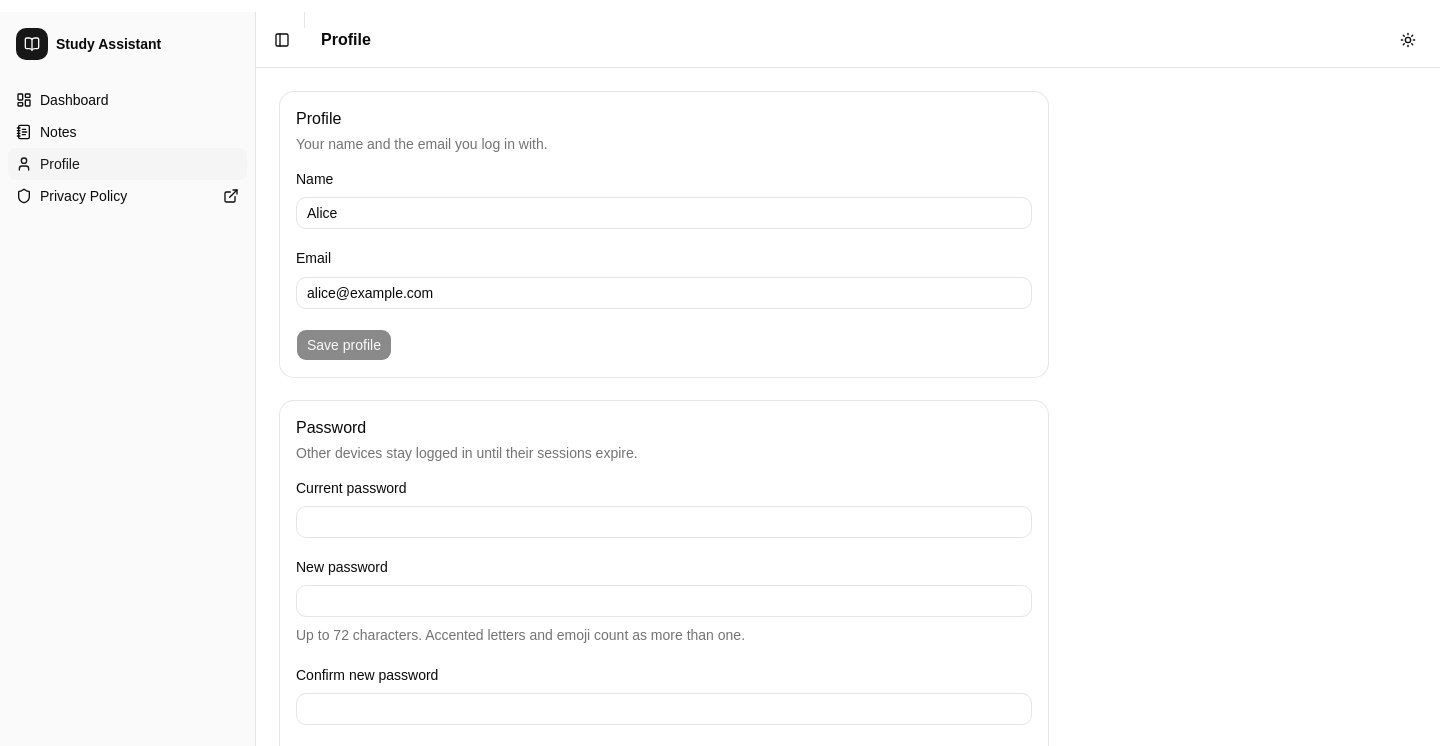
Test: profile page › shows a conflict when the email is taken
Replace the text in the field labelled "Email" with "bob@example.com": {"x": 664, "y": 292} [296,276,1032,308]
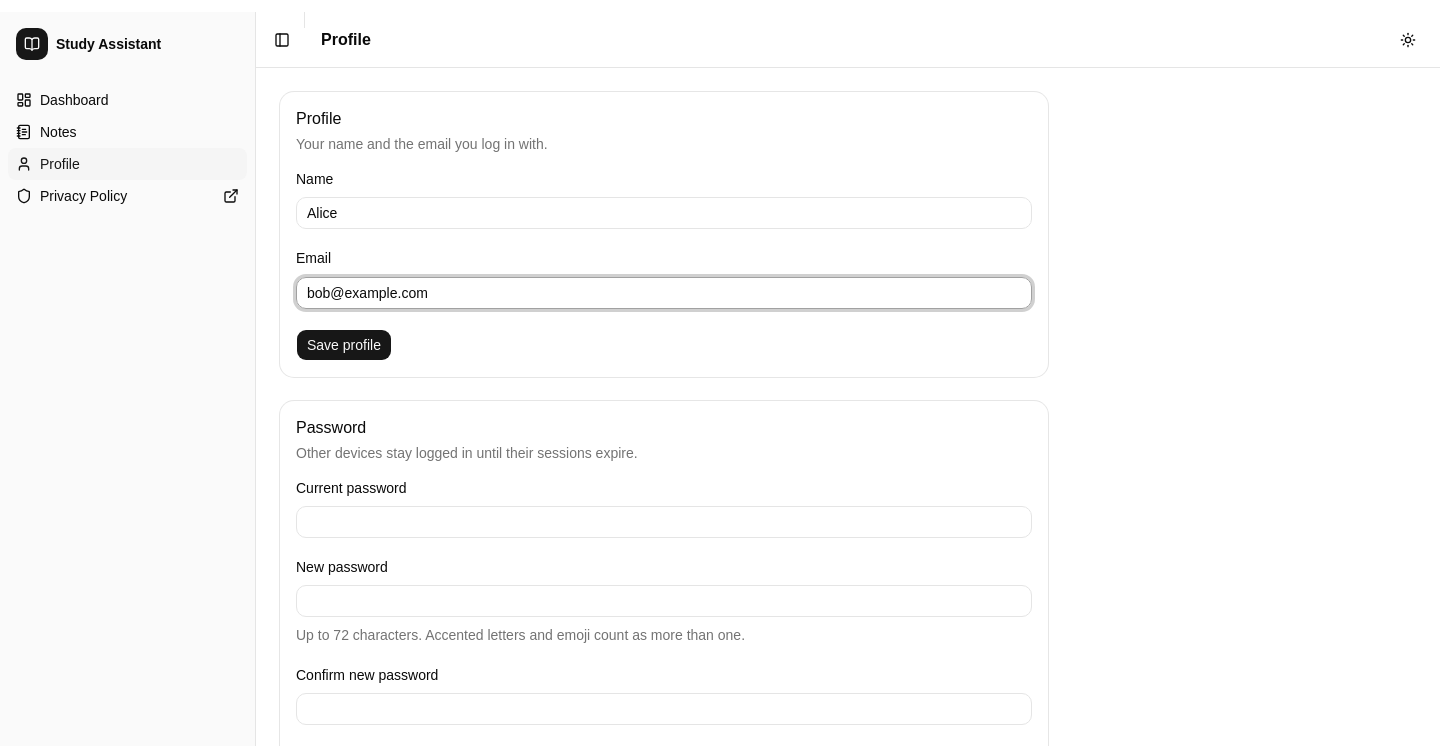
Click the button "Save profile": {"x": 344, "y": 344} [296,328,392,360]
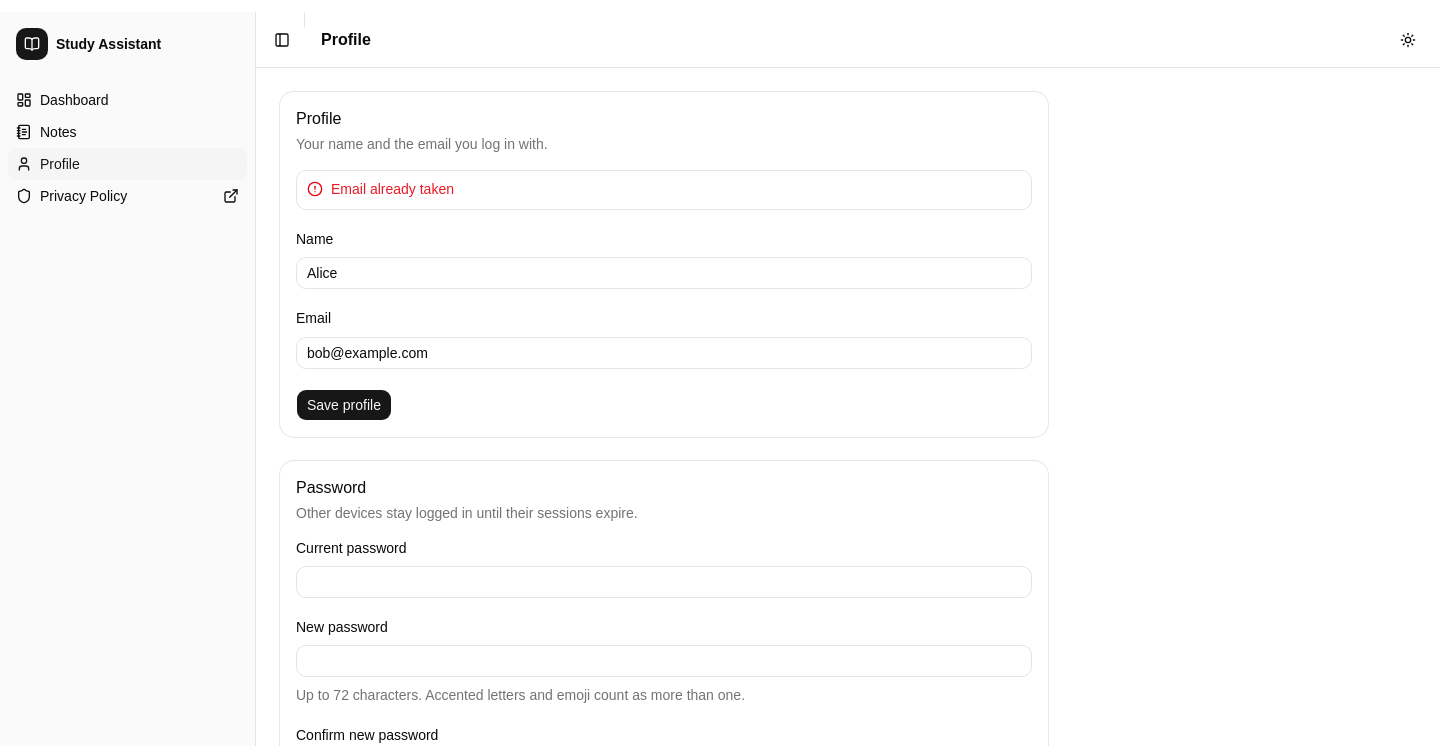
Result: the message reads "Email already taken" at [331,181,454,197]
